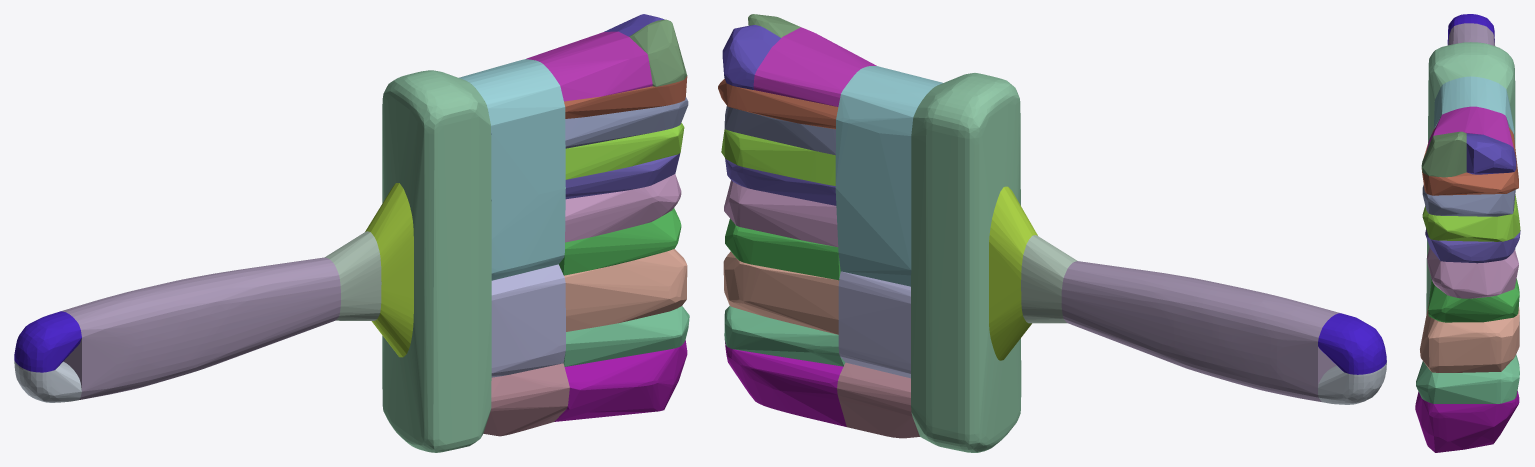
Rendered from blue_brush-collision.glb.
3 views of the same model, side by side, from view 1: azimuth 30°, elevation 25°; view 2: azimuth 150°, elevation 25°; view 3: azimuth 270°, elevation 25° (orthographic). The views are drawn at different scales.
Visible parts, largest first — view 1: blue_brush_collision3_0, blue_brush_collision1_0, blue_brush_collision2_0, blue_brush_collision12_0, blue_brush_collision9_0, blue_brush_collision11_0, blue_brush_collision14_0, blue_brush_collision4_0, blue_brush_collision13_0, blue_brush_collision7_0, blue_brush_collision10_0, blue_brush_collision8_0 (+8 smaller); view 2: blue_brush_collision3_0, blue_brush_collision1_0, blue_brush_collision2_0, blue_brush_collision12_0, blue_brush_collision9_0, blue_brush_collision11_0, blue_brush_collision14_0, blue_brush_collision4_0, blue_brush_collision13_0, blue_brush_collision7_0, blue_brush_collision10_0, blue_brush_collision8_0 (+9 smaller); view 3: blue_brush_collision9_0, blue_brush_collision11_0, blue_brush_collision3_0, blue_brush_collision10_0, blue_brush_collision7_0, blue_brush_collision8_0, blue_brush_collision17_0, blue_brush_collision2_0, blue_brush_collision15_0, blue_brush_collision16_0, blue_brush_collision14_0, blue_brush_collision18_0 (+4 smaller).
Boxes of the visible parts, bbox=[...] form: blue_brush_collision3_0: bbox=[382, 70, 491, 452]; blue_brush_collision1_0: bbox=[61, 257, 340, 399]; blue_brush_collision2_0: bbox=[459, 59, 565, 280]; blue_brush_collision12_0: bbox=[491, 264, 565, 377]; blue_brush_collision9_0: bbox=[564, 249, 687, 331]; blue_brush_collision11_0: bbox=[554, 340, 687, 421]; blue_brush_collision14_0: bbox=[526, 31, 652, 101]; blue_brush_collision4_0: bbox=[365, 183, 413, 357]; blue_brush_collision13_0: bbox=[483, 363, 569, 436]; blue_brush_collision7_0: bbox=[565, 174, 681, 242]; blue_brush_collision10_0: bbox=[563, 306, 689, 366]; blue_brush_collision8_0: bbox=[559, 208, 681, 275]; blue_brush_collision3_0: bbox=[911, 73, 1021, 452]; blue_brush_collision1_0: bbox=[1061, 261, 1340, 401]; blue_brush_collision2_0: bbox=[835, 66, 942, 286]; blue_brush_collision12_0: bbox=[838, 271, 910, 378]; blue_brush_collision9_0: bbox=[723, 251, 839, 334]; blue_brush_collision11_0: bbox=[725, 342, 846, 426]; blue_brush_collision14_0: bbox=[753, 27, 876, 106]; blue_brush_collision4_0: bbox=[989, 186, 1037, 360]; blue_brush_collision13_0: bbox=[837, 362, 919, 438]; blue_brush_collision7_0: bbox=[724, 180, 838, 247]; blue_brush_collision10_0: bbox=[724, 306, 845, 366]; blue_brush_collision8_0: bbox=[725, 218, 840, 280]; blue_brush_collision9_0: bbox=[1420, 302, 1519, 372]; blue_brush_collision11_0: bbox=[1415, 391, 1519, 452]; blue_brush_collision3_0: bbox=[1426, 42, 1515, 313]; blue_brush_collision10_0: bbox=[1416, 354, 1519, 403]; blue_brush_collision7_0: bbox=[1427, 247, 1518, 298]; blue_brush_collision8_0: bbox=[1428, 278, 1519, 322]; blue_brush_collision17_0: bbox=[1422, 194, 1520, 241]; blue_brush_collision2_0: bbox=[1433, 76, 1514, 137]; blue_brush_collision15_0: bbox=[1421, 127, 1518, 195]; blue_brush_collision16_0: bbox=[1422, 185, 1515, 216]; blue_brush_collision14_0: bbox=[1426, 106, 1513, 150]; blue_brush_collision18_0: bbox=[1425, 206, 1520, 263].
Bounding box in the file's own units: 0.3017 × 0.1669 × 0.0491.
